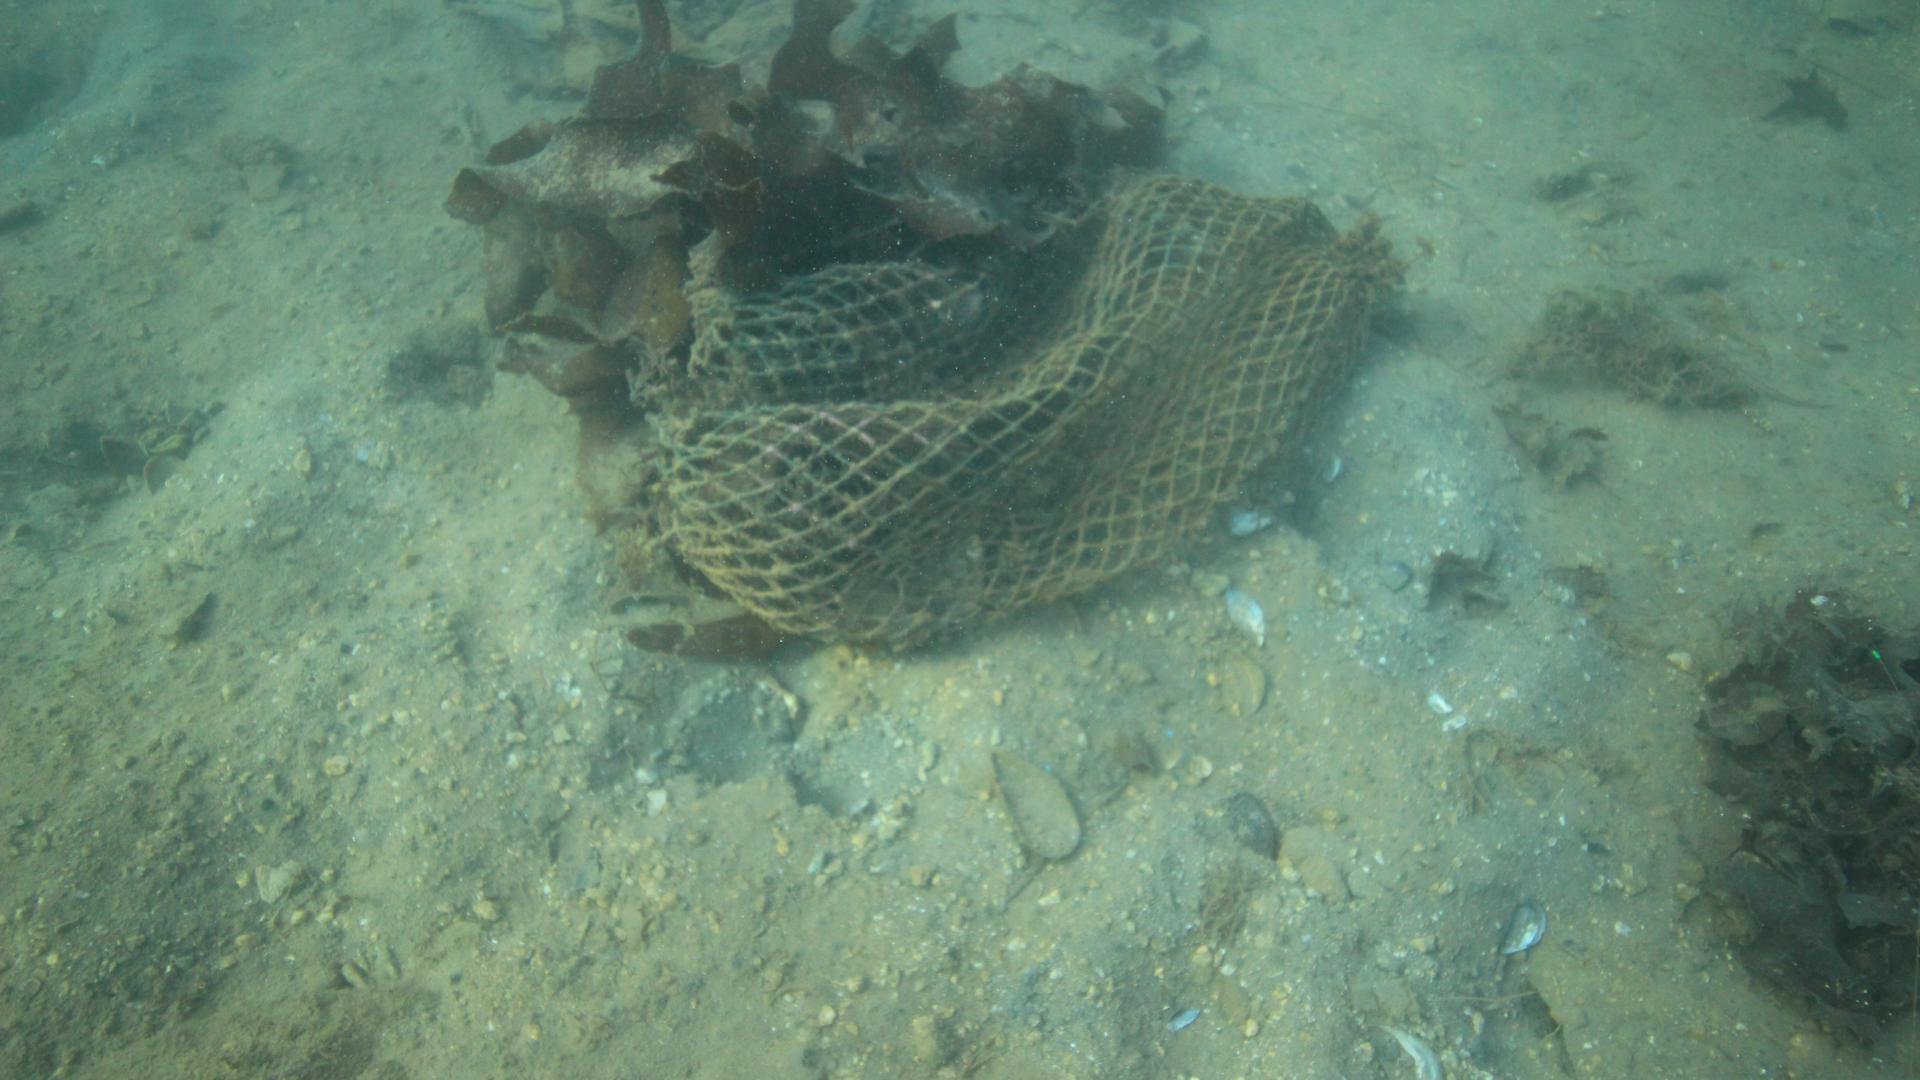fish net: (661, 170, 1383, 645)
